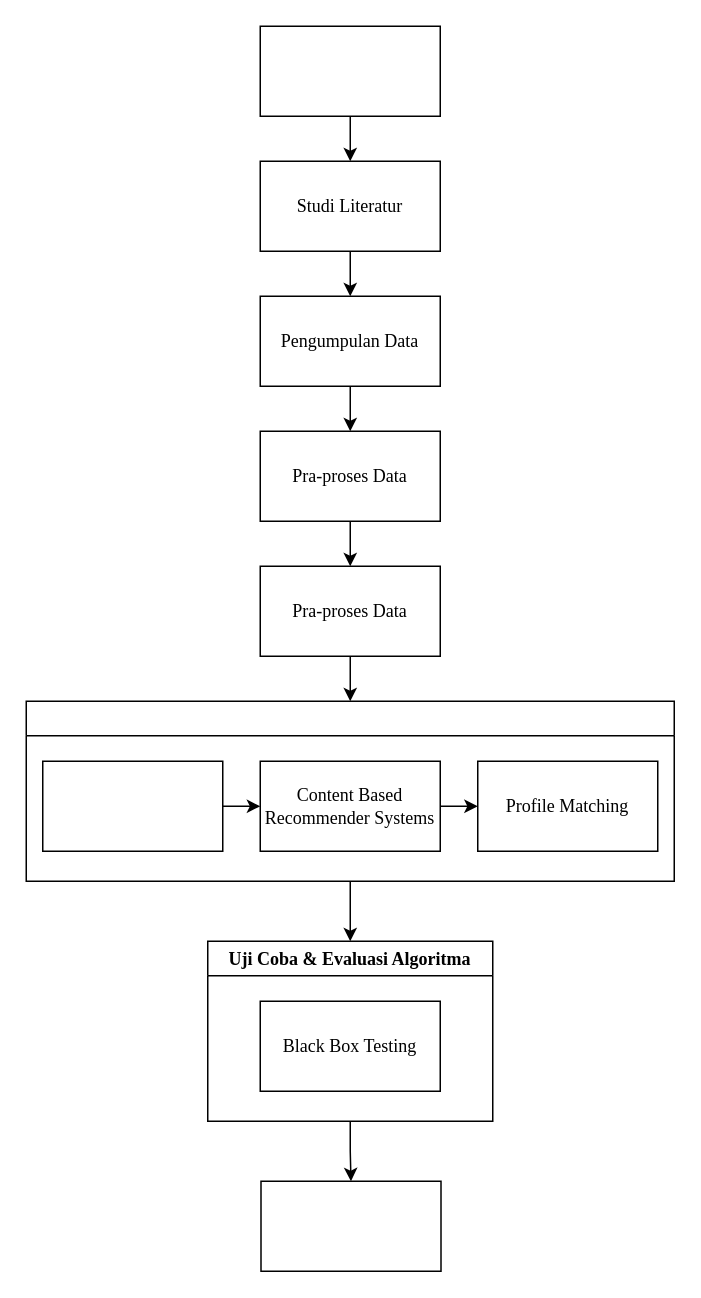
The diagram is 701 pixels wide and 1298 high, and some of its shapes have lost their labels. Here are the shapes that lost their labels. From the top down, the box of each, then its label:
(259, 25, 440, 116): Identifikasi Masalah
(41, 760, 223, 851): Knowledge-Based Recommender Systems
(25, 700, 674, 881): Implementasi Algoritma
(260, 1180, 441, 1271): Penyusunan Buku Tugas Akhir
